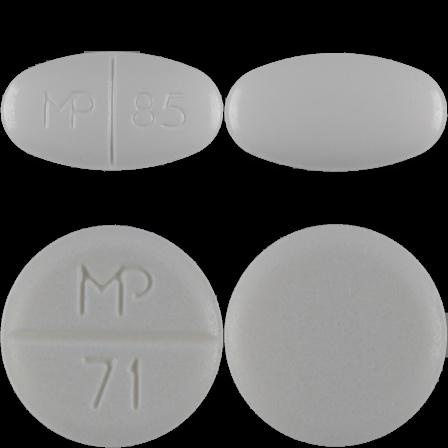53489-146: (0, 0, 224, 224)
